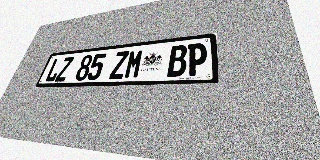5: (86, 53, 107, 80)
8: (74, 54, 94, 81)
B: (167, 44, 188, 77)
L: (44, 58, 64, 82)
M: (123, 49, 144, 79)
P: (186, 42, 207, 76)
Z: (109, 51, 129, 79), (54, 57, 74, 82)
